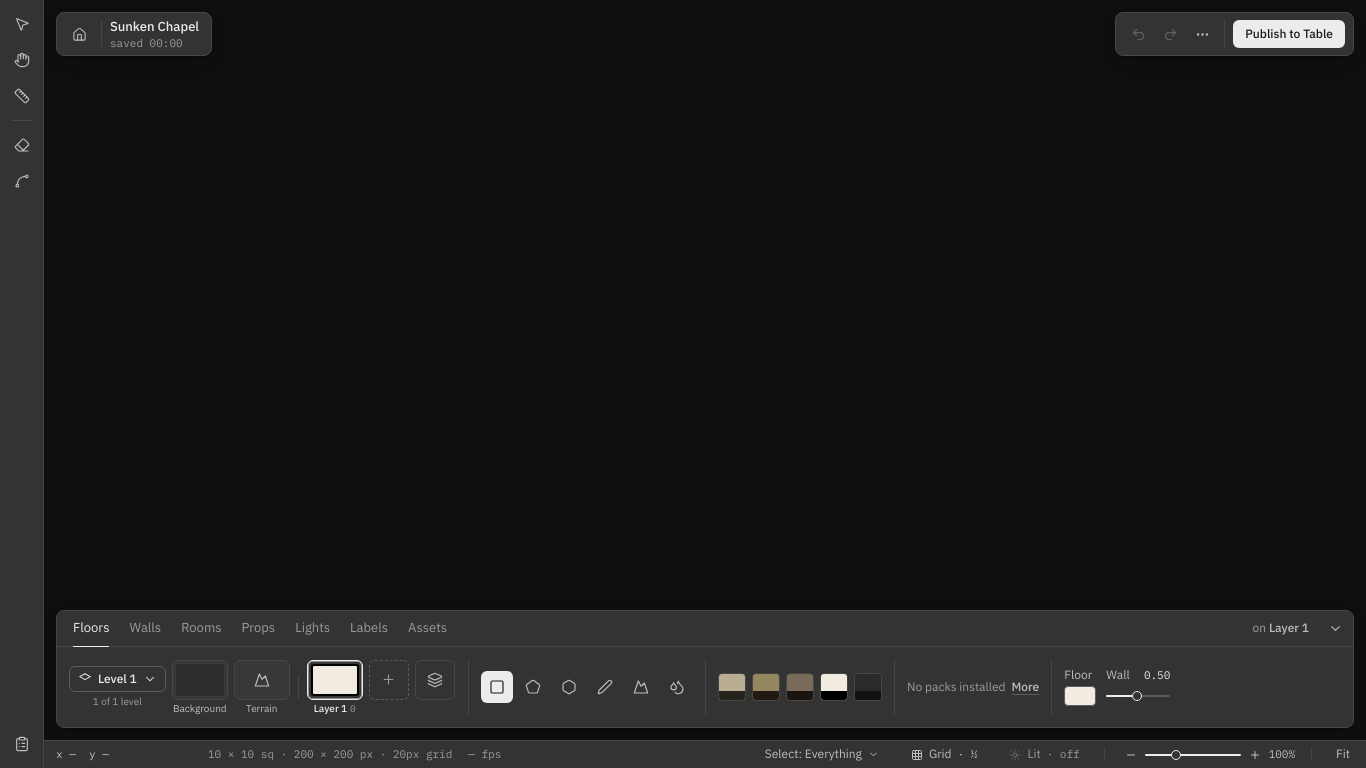
opening the Packs sheet › from the … menu, under Export
What coordinates should you click on to do the following:
click the button with test id "v2-more"
I would click on:
 (1202, 34)
Its box is [1188, 20, 1216, 48].
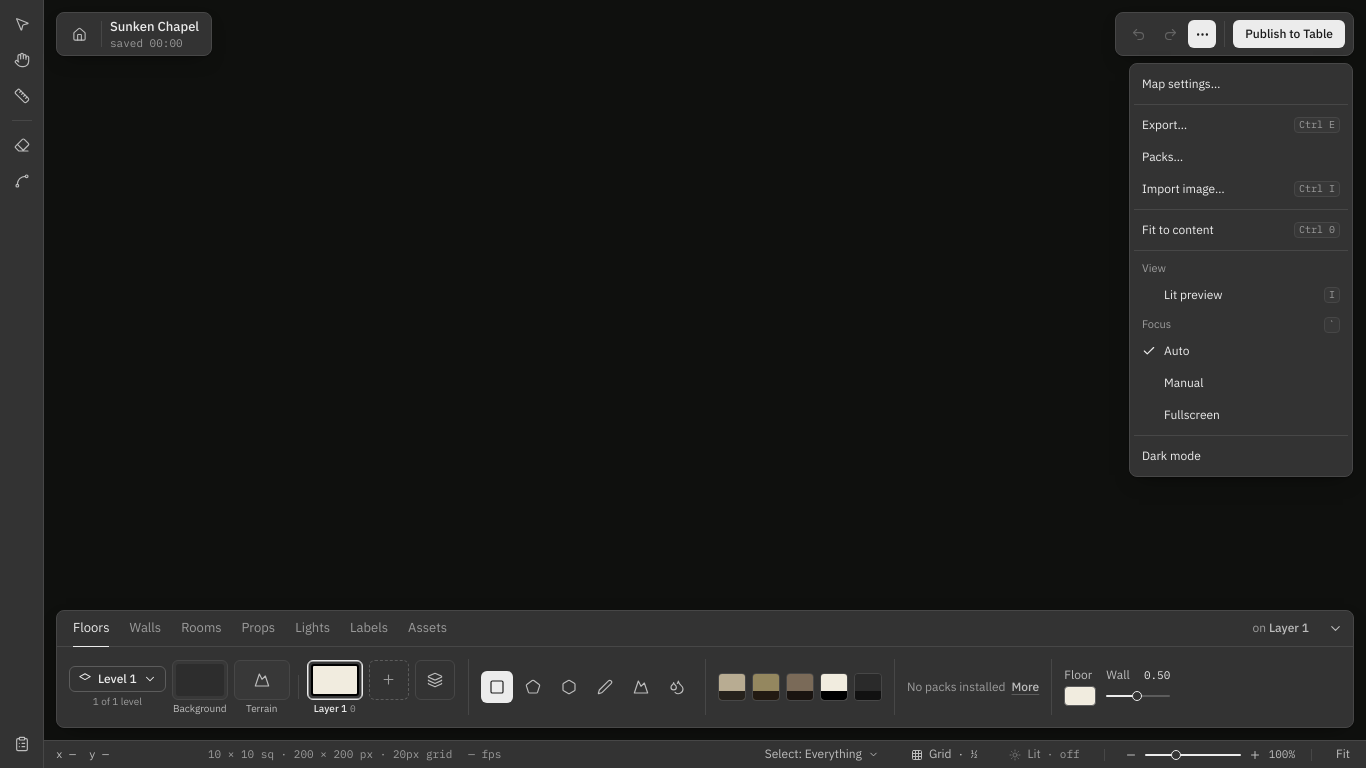
What coordinates should you click on to do the following:
click the menu item "Packs…"
I would click on:
 (1241, 157)
Its box is [1134, 141, 1348, 173].
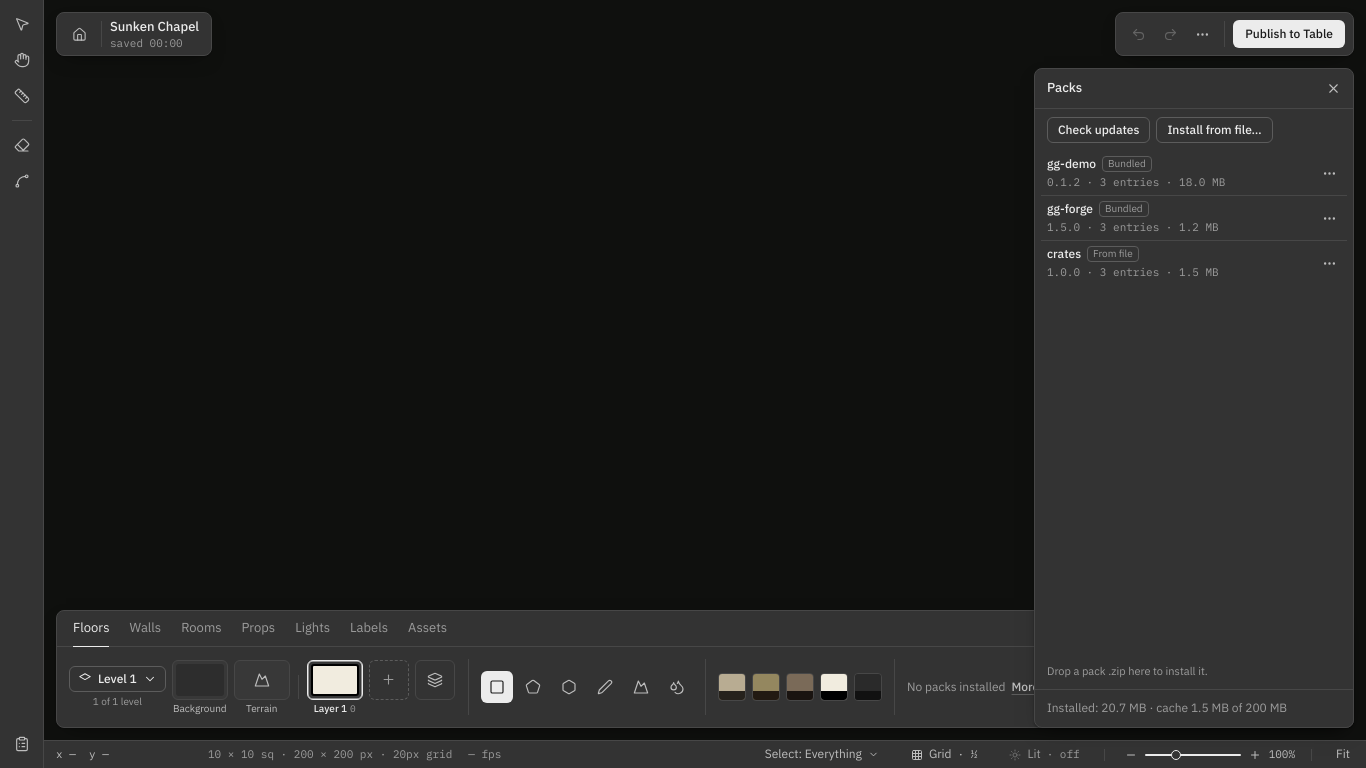
Result: the element with test id "v2-packs-sheet" is shown at [1034, 68, 1354, 728]
